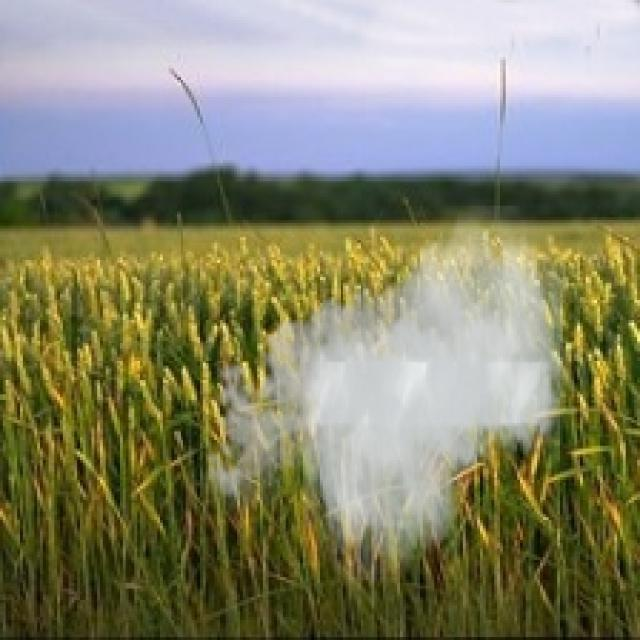smoke: (194, 206, 563, 580)
